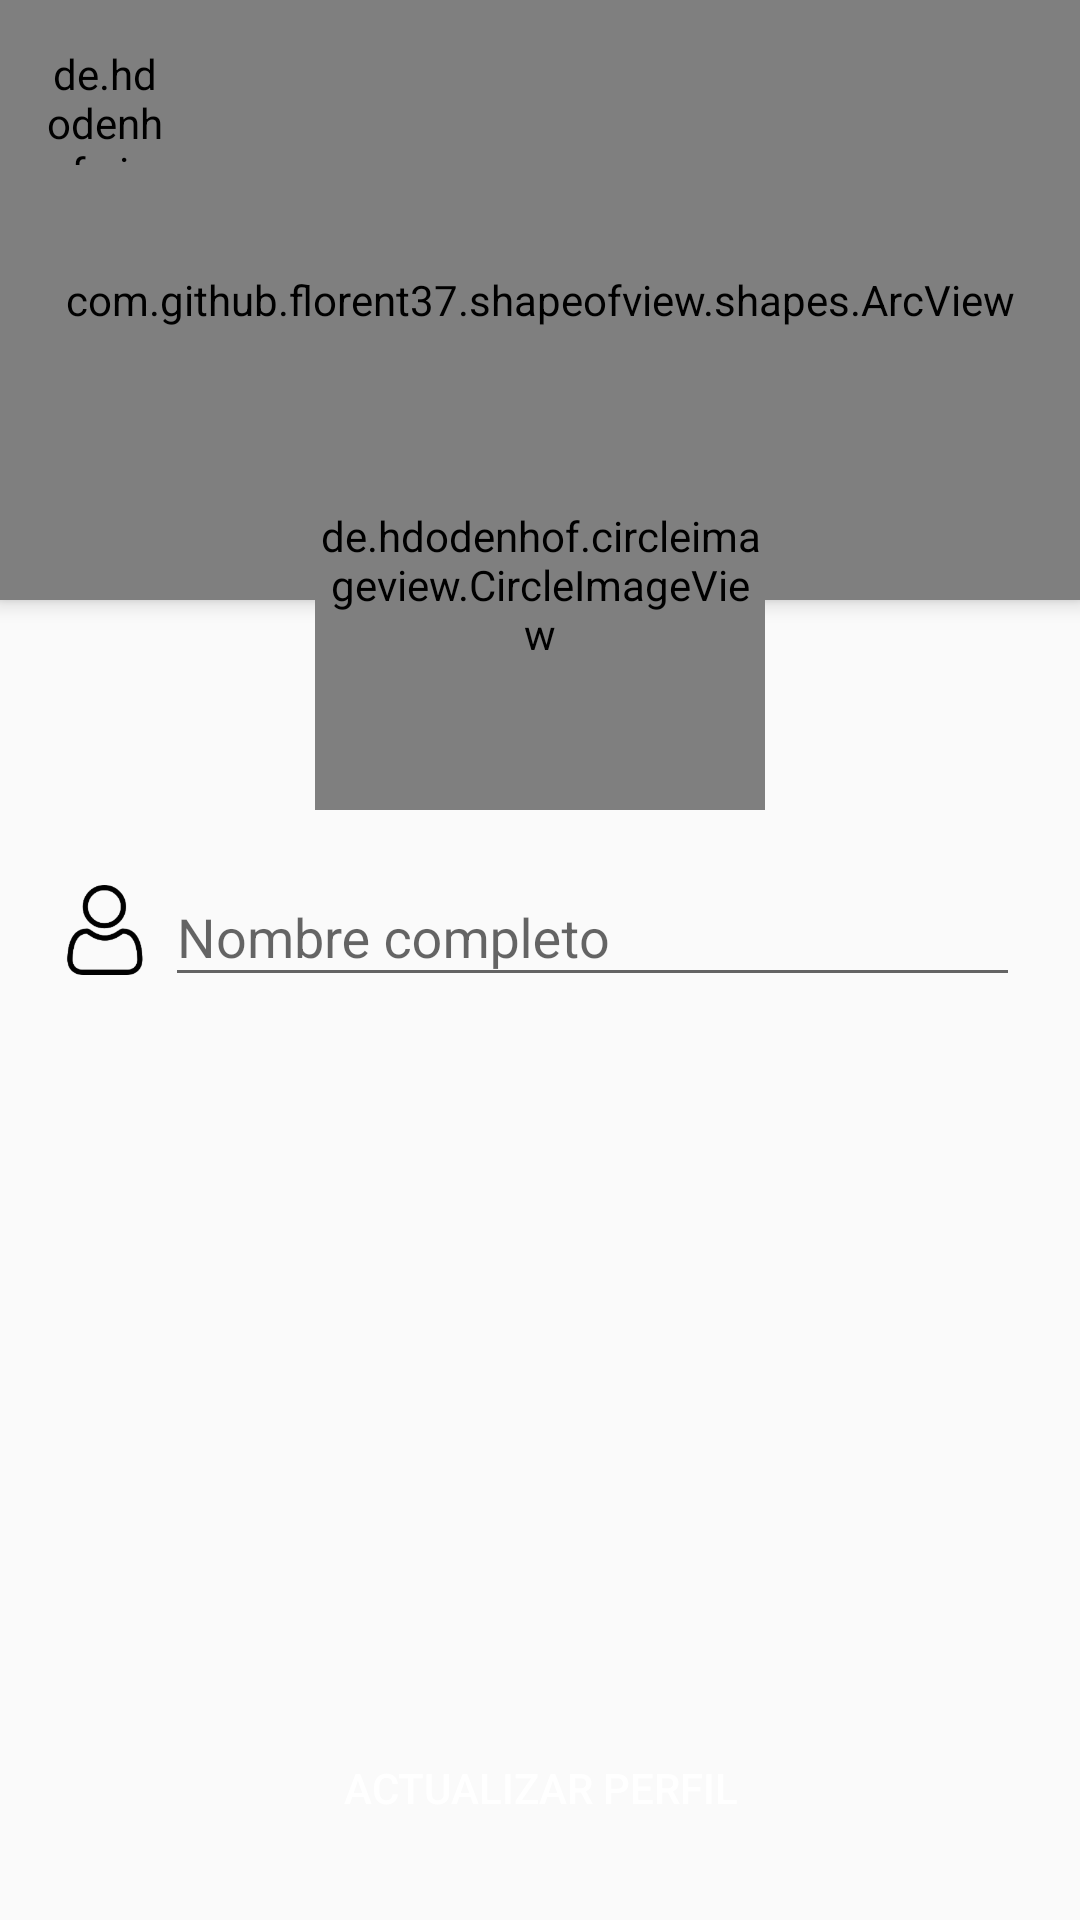

Screen size 1080x1920. Icon name, then its box in pixels as (x1, y1, x2, y2):
person: (67, 885, 143, 975)
